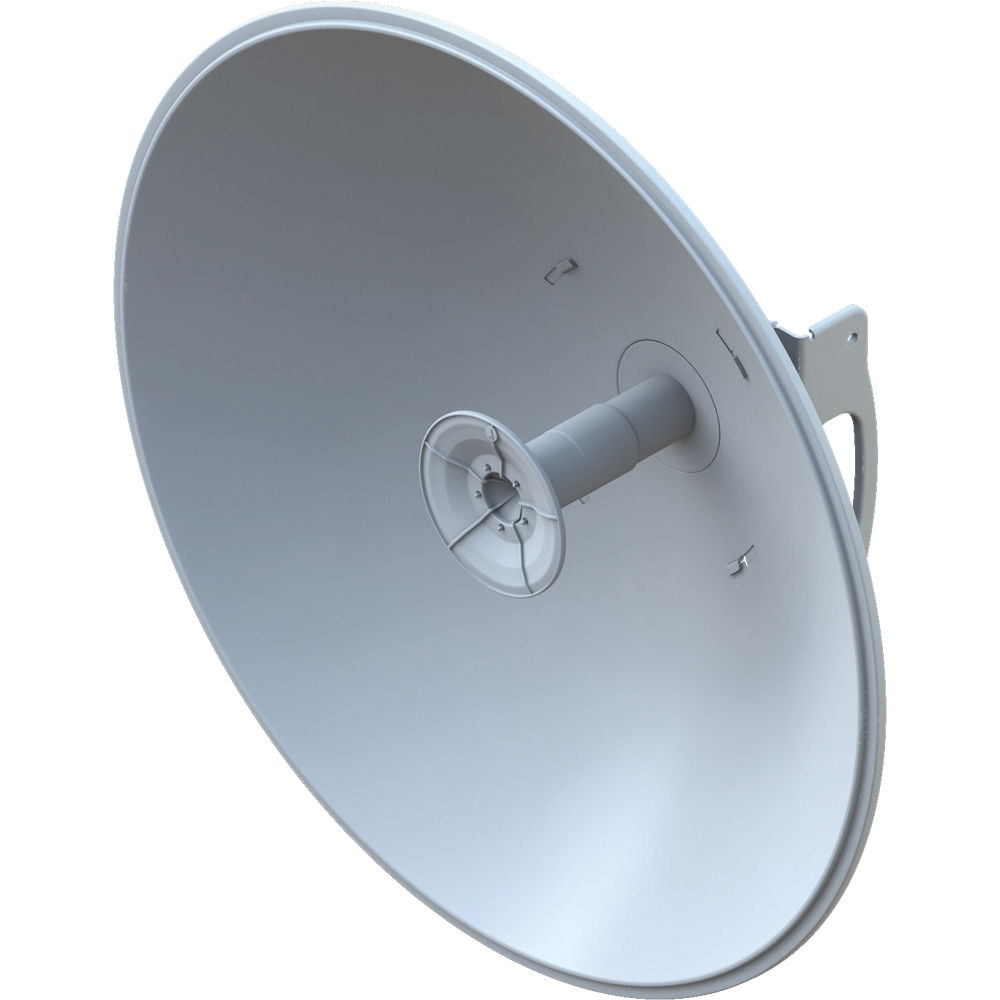ba: (71, 12, 914, 996)
